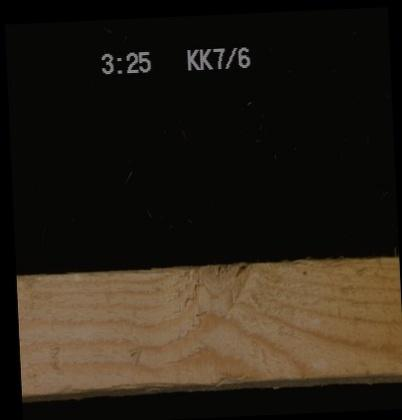edge_knot: (180, 262, 258, 309)
